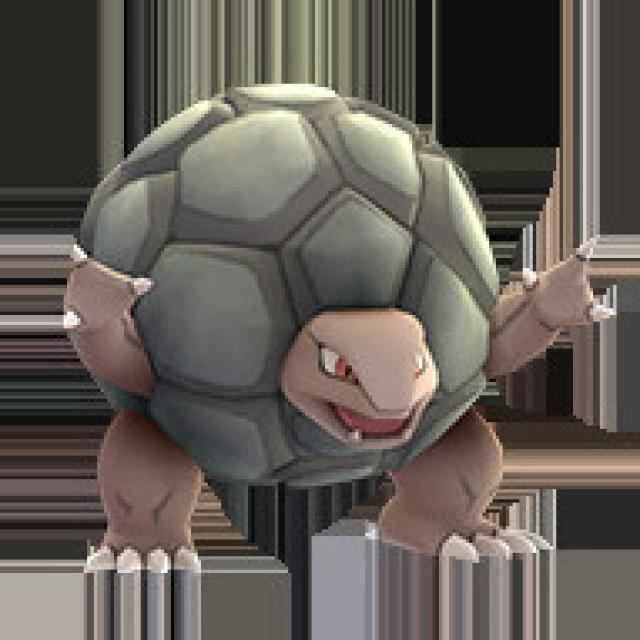Golem: (46, 72, 626, 586)
